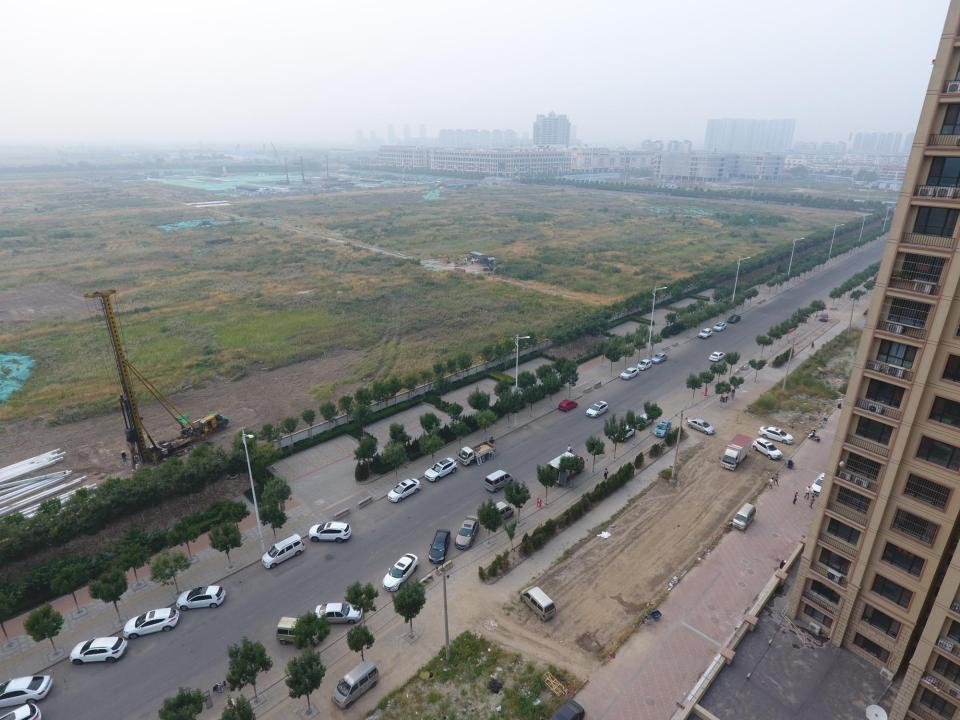car: (123, 607, 179, 639), (69, 636, 128, 666), (0, 674, 53, 707), (382, 552, 419, 592), (175, 585, 226, 611), (314, 602, 363, 624), (308, 521, 352, 543), (454, 515, 480, 550), (424, 457, 458, 482), (428, 528, 451, 564), (388, 478, 421, 503), (548, 698, 585, 720), (0, 702, 42, 720), (752, 438, 783, 460), (758, 426, 794, 444), (686, 417, 716, 435), (811, 473, 832, 496), (614, 424, 636, 442), (586, 400, 608, 418), (653, 419, 672, 438), (633, 413, 655, 429), (558, 399, 577, 412), (620, 367, 639, 380), (650, 352, 668, 364), (636, 359, 652, 371), (709, 351, 726, 362), (698, 328, 713, 340), (712, 322, 727, 332), (727, 314, 741, 323), (819, 312, 829, 322)
truck: (545, 451, 588, 486), (719, 433, 753, 470), (455, 440, 497, 466)
van: (333, 659, 379, 709), (261, 534, 306, 569), (276, 616, 323, 648), (519, 585, 557, 621), (484, 469, 514, 492), (732, 502, 756, 530), (484, 502, 514, 524)
